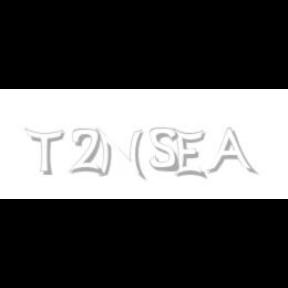2: (68, 128, 102, 176)
A: (206, 128, 254, 176)
E: (172, 128, 206, 180)
N: (96, 128, 144, 180)
S: (150, 128, 180, 172)
T: (24, 128, 64, 176)
